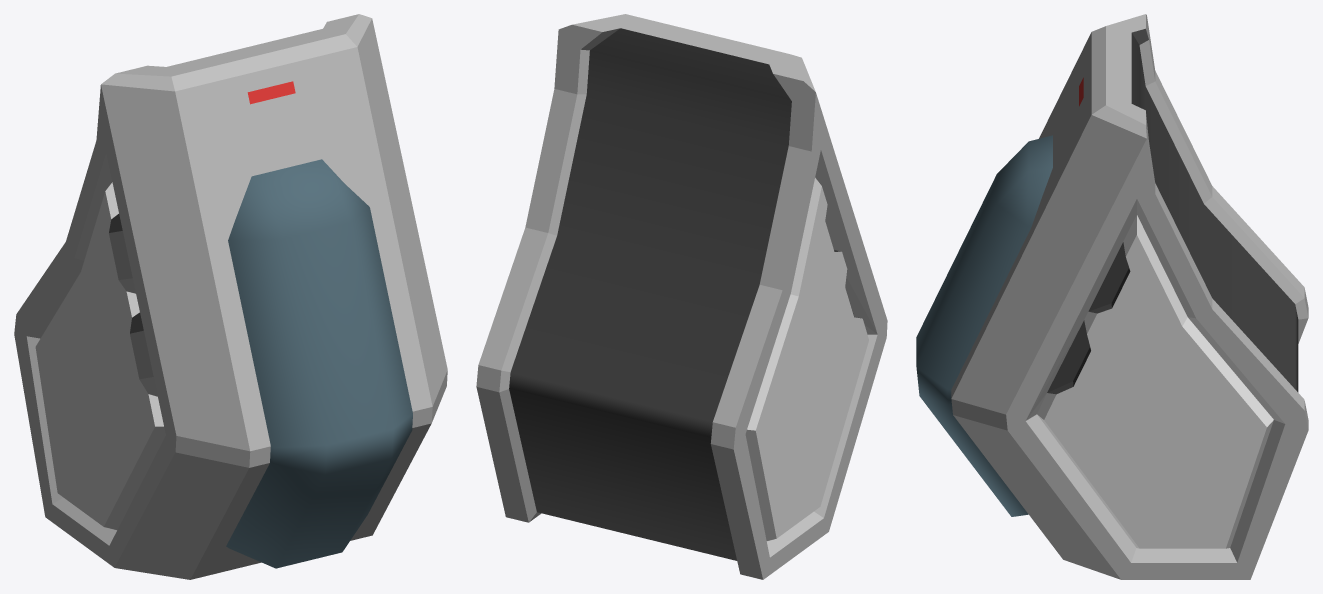
Rendered from space_station_020.fbx.
The picture shows the model from 3 angles, left to right: view 1: azimuth 30°, elevation 25°; view 2: azimuth 150°, elevation 25°; view 3: azimuth 270°, elevation 25°; orthographic projection. The views are drawn at different scales.
Parts seen in each view (by area): view 1: space_station_020; view 2: space_station_020; view 3: space_station_020.
Part boxes in pixels (x1,y1,x2,y2): space_station_020: (14, 14, 447, 579); space_station_020: (476, 14, 887, 579); space_station_020: (916, 14, 1308, 579).
Size of the model in its own units: 622 by 829 by 1056.
